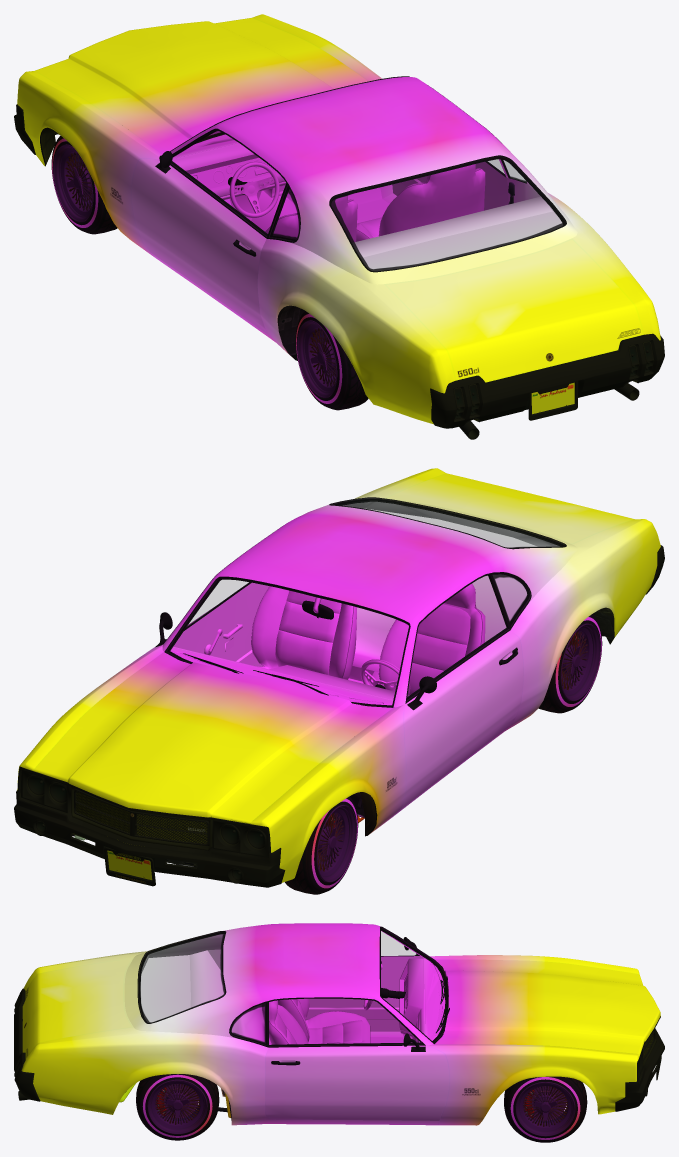
File: sabregt2.glb
3 views of the same model, one above another, from view 1: azimuth 30°, elevation 25°; view 2: azimuth 150°, elevation 25°; view 3: azimuth 270°, elevation 25° (orthographic). The views are drawn at different scales.
Visible parts, largest first — view 1: bodyshell, bonnet, boot, windscreen_r, misc_l, door_dside_f, wing_lf, misc_c, window_lf, wheel_lr, misc_g, wheel_lf (+7 smaller); view 2: bodyshell, bonnet, misc_l, door_dside_f, wing_lf, misc_a, boot, misc_b, window_lf, wheel_lf, misc_k, wheel_lr (+7 smaller); view 3: bodyshell, bonnet, door_pside_f, wing_rf, misc_l, boot, windscreen_r, window_rf, wheel_rr, wheel_rf, misc_g, misc_j (+7 smaller).
Part boxes in pixels (left/top/right/bottom): bodyshell: left=151, top=76, right=660, bottom=424; bonnet: left=35, top=18, right=368, bottom=154; boot: left=385, top=239, right=642, bottom=381; windscreen_r: left=331, top=157, right=564, bottom=271; misc_l: left=172, top=134, right=552, bottom=257; door_dside_f: left=131, top=151, right=267, bottom=332; wing_lf: left=17, top=71, right=162, bottom=258; misc_c: left=430, top=333, right=664, bottom=428; window_lf: left=172, top=131, right=285, bottom=234; wheel_lr: left=295, top=311, right=368, bottom=410; misc_g: left=361, top=211, right=562, bottom=270; wheel_lf: left=51, top=135, right=117, bottom=234; bodyshell: left=28, top=468, right=660, bottom=847; bonnet: left=34, top=652, right=392, bottom=823; misc_l: left=170, top=575, right=527, bottom=705; door_dside_f: left=401, top=627, right=523, bottom=808; wing_lf: left=251, top=704, right=406, bottom=882; misc_a: left=14, top=790, right=285, bottom=887; boot: left=385, top=473, right=634, bottom=543; misc_b: left=18, top=766, right=270, bottom=859; window_lf: left=408, top=576, right=507, bottom=697; wheel_lf: left=285, top=796, right=358, bottom=894; misc_k: left=173, top=582, right=269, bottom=666; wheel_lr: left=538, top=614, right=602, bottom=713; bodyshell: left=21, top=923, right=653, bottom=1125; bonnet: left=435, top=959, right=660, bottom=1054; door_pside_f: left=265, top=1033, right=449, bottom=1120; wing_rf: left=426, top=1044, right=639, bottom=1125; misc_l: left=189, top=949, right=445, bottom=1044; boot: left=23, top=958, right=132, bottom=1059; windscreen_r: left=139, top=932, right=224, bottom=1022; window_rf: left=269, top=999, right=419, bottom=1045; wheel_rr: left=136, top=1074, right=219, bottom=1140; wheel_rf: left=504, top=1076, right=587, bottom=1142; misc_g: left=140, top=955, right=190, bottom=1022; misc_j: left=305, top=956, right=423, bottom=1031.
Size of the model in its own units: 1.92 by 1.26 by 5.08.
21 materials, 14 textured.
